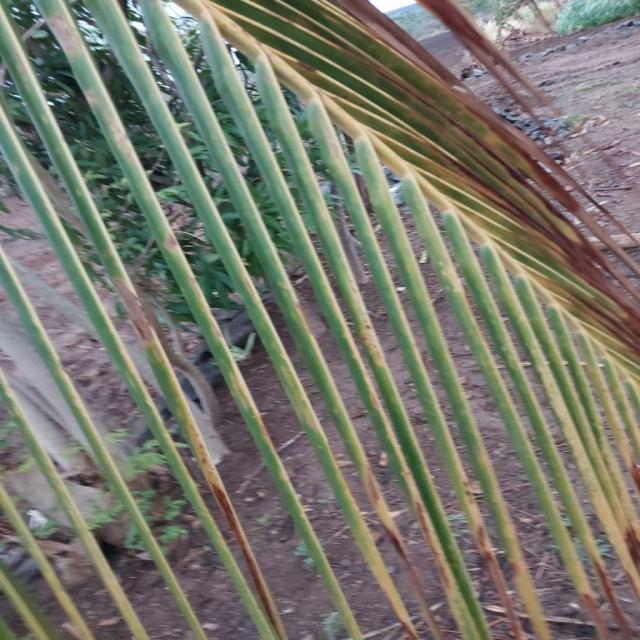gray leaf spot: (202, 0, 639, 371), (89, 231, 291, 640), (335, 460, 640, 639)
